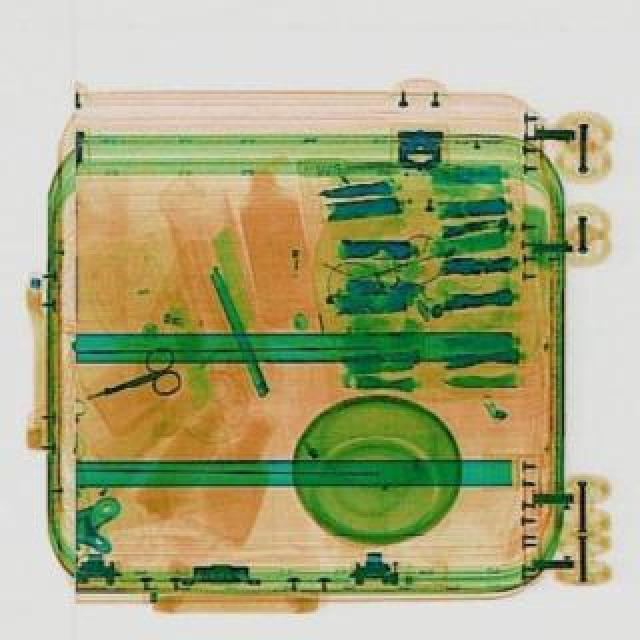pliers: (76, 342, 188, 418)
